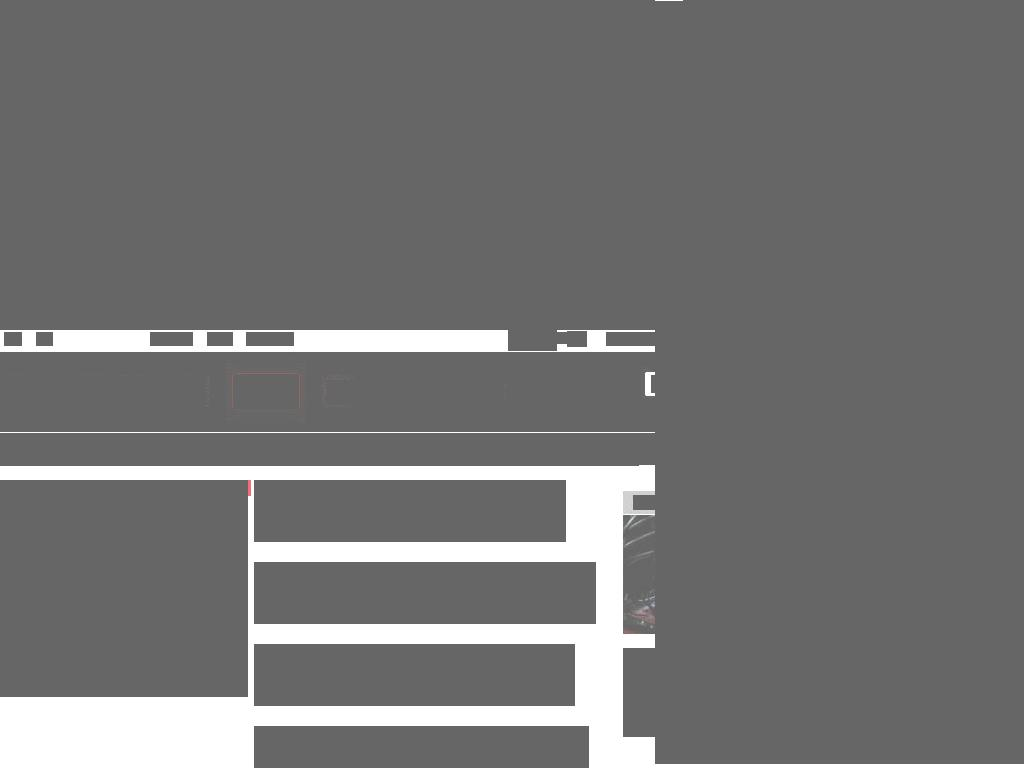button: (342, 82, 650, 255), (0, 248, 323, 330), (342, 261, 650, 286), (342, 300, 650, 320), (0, 216, 323, 235), (912, 601, 1024, 650), (326, 380, 504, 405), (265, 433, 372, 466), (189, 52, 367, 70), (174, 433, 266, 466), (548, 433, 640, 466), (458, 433, 549, 466), (371, 433, 459, 466), (367, 52, 524, 70), (92, 433, 175, 466), (0, 52, 146, 70), (524, 52, 655, 70), (233, 374, 299, 409), (23, 433, 93, 466), (0, 393, 206, 404), (346, 5, 438, 17), (508, 332, 587, 344), (0, 433, 24, 466), (146, 52, 189, 70), (174, 5, 231, 17), (239, 5, 288, 17), (120, 5, 166, 17), (583, 5, 627, 17), (532, 5, 575, 17), (296, 5, 338, 17), (486, 5, 524, 17), (75, 5, 112, 17), (446, 5, 478, 17), (48, 5, 67, 17)
heading: (655, 378, 1024, 571), (0, 82, 323, 238), (342, 259, 640, 288), (342, 299, 636, 320), (189, 51, 347, 70), (367, 51, 504, 70), (0, 51, 81, 70), (524, 51, 602, 70), (602, 51, 655, 70), (81, 51, 126, 70), (146, 51, 169, 70), (633, 495, 655, 510)
iframe: (0, 0, 655, 330), (0, 0, 655, 330)
image: (655, 330, 1024, 764), (655, 1, 1024, 330), (683, 0, 1024, 330), (771, 1, 1024, 330), (0, 480, 248, 697), (0, 480, 248, 697), (0, 480, 248, 697), (0, 480, 248, 697), (0, 480, 248, 697), (342, 82, 650, 255), (0, 248, 323, 330), (936, 12, 1024, 125), (326, 380, 351, 405), (567, 331, 587, 347)
link: (254, 562, 596, 624), (254, 644, 575, 706), (254, 480, 566, 542), (254, 726, 589, 768), (606, 332, 655, 346), (246, 332, 294, 346), (150, 332, 193, 346), (207, 332, 233, 346), (4, 332, 22, 346), (36, 332, 53, 346)
text: (771, 160, 1024, 284), (0, 376, 206, 408), (355, 380, 504, 405), (342, 215, 423, 255), (508, 330, 557, 351)
